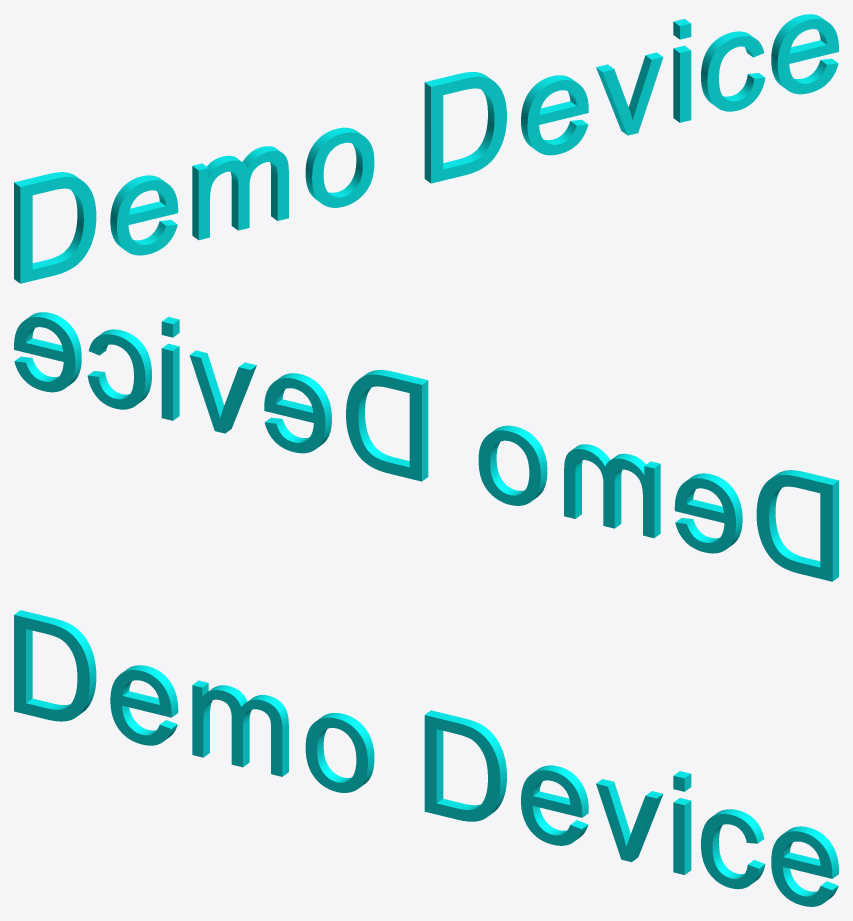
The model's file is void_device.glb.
3 renders of one model, top to bottom at view 1: azimuth 30°, elevation 25°; view 2: azimuth 150°, elevation 25°; view 3: azimuth 330°, elevation 25°, orthographic.
Visible parts, largest first — view 1: world; view 2: world; view 3: world.
Part boxes in pixels (x1,y1,x2,y2): world: (14, 14, 838, 283); world: (14, 312, 838, 581); world: (14, 610, 838, 906).
Size of the model in its own units: 7.27 by 0.836 by 0.1.
